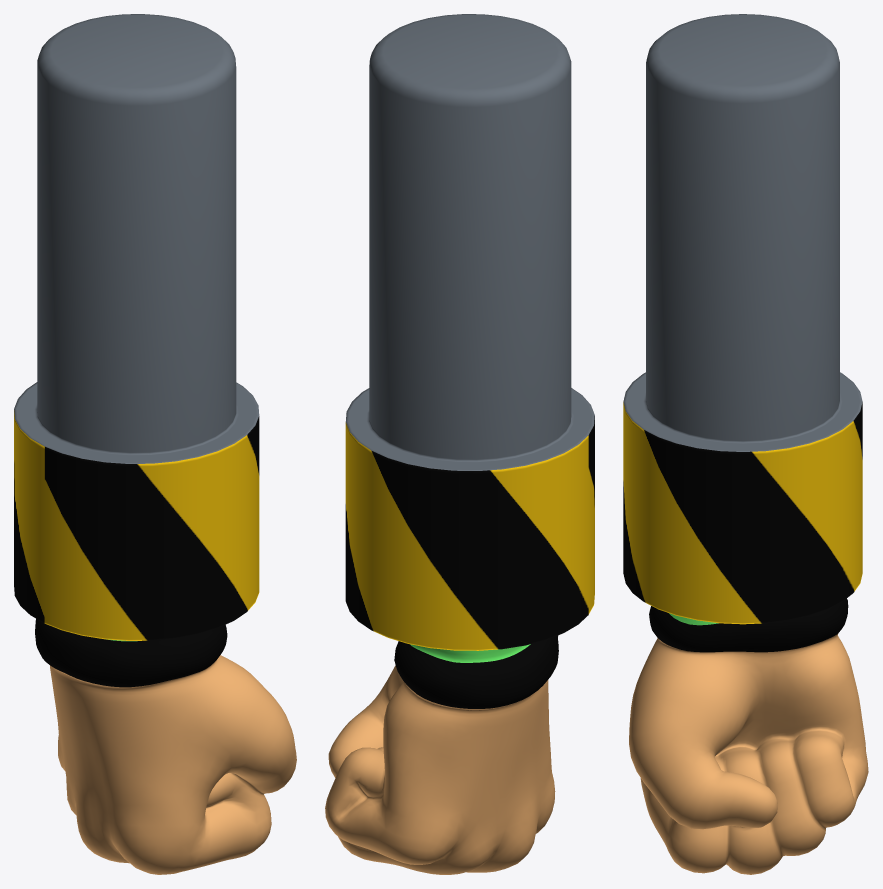
File: PressNo3.fbx
3 renders of one model, left to right at view 1: azimuth 30°, elevation 25°; view 2: azimuth 150°, elevation 25°; view 3: azimuth 270°, elevation 25°, orthographic. The views are drawn at different scales.
Visible parts, largest first — view 1: Cylinder.003, Punch; view 2: Cylinder.003, Punch; view 3: Cylinder.003, Punch.
Boxes of the visible parts, <box> form: Cylinder.003: <box>14,14,259,640</box>; Punch: <box>35,619,296,874</box>; Cylinder.003: <box>345,14,594,650</box>; Punch: <box>325,635,558,874</box>; Cylinder.003: <box>623,14,862,624</box>; Punch: <box>629,598,868,874</box>.
Bounding box in the file's own units: 141 × 455 × 128.
5 materials, 1 textured.
